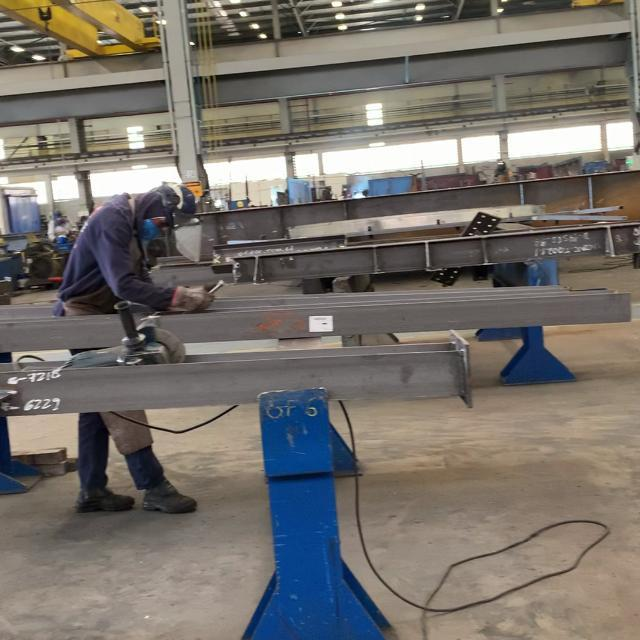eye-glass: (148, 212, 202, 266)
face-shield: (168, 285, 215, 314)
glove: (153, 185, 199, 213)
mask: (59, 182, 219, 515)
safety-shoe: (58, 182, 218, 515), (139, 478, 198, 514), (74, 485, 138, 514)
